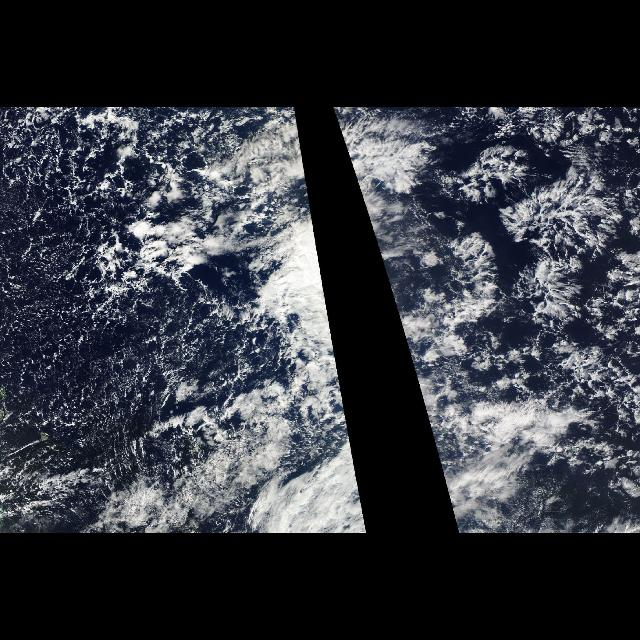Flower: (447, 107, 639, 399)
Gravel: (1, 109, 251, 454), (436, 110, 634, 394)
